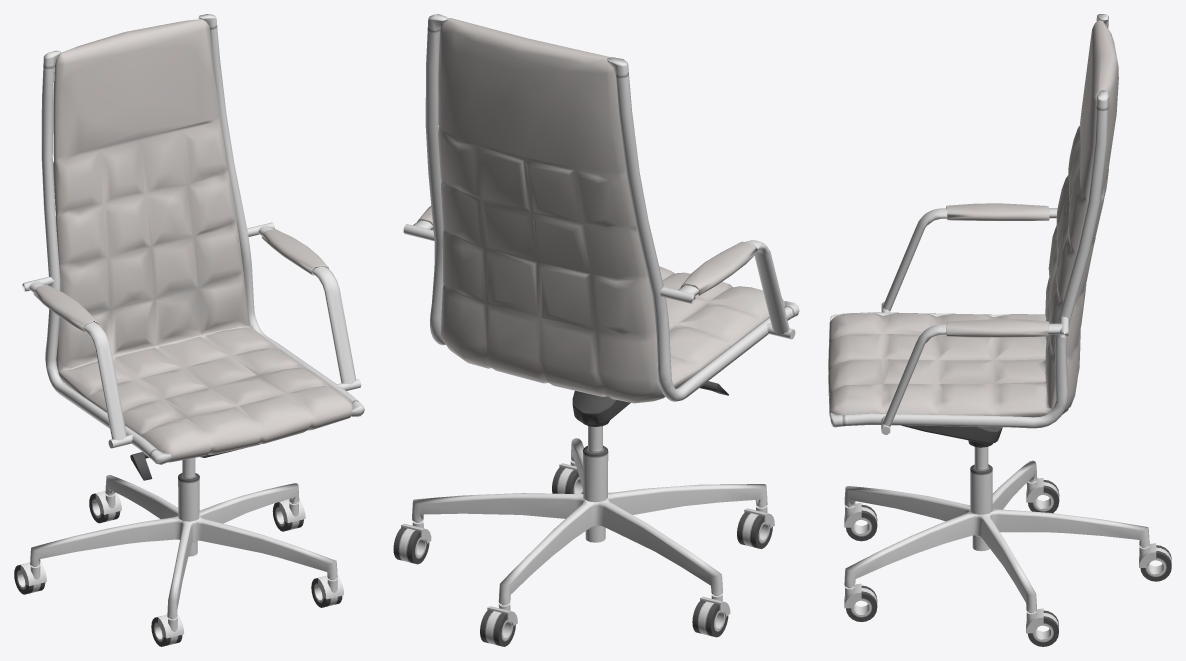
File: CR_Chair1.glb
3 views of the same model, side by side, from view 1: azimuth 30°, elevation 25°; view 2: azimuth 150°, elevation 25°; view 3: azimuth 270°, elevation 25° (orthographic). The views are drawn at different scales.
Parts seen in each view (by area): view 1: Chair_1; view 2: Chair_1; view 3: Chair_1.
Part boxes in pixels (x1=…): Chair_1: x1=14, y1=14, x2=364, y2=646; Chair_1: x1=393, y1=14, x2=799, y2=646; Chair_1: x1=828, y1=14, x2=1171, y2=646.
Bounding box in the file's own units: 0.6914 × 1.21 × 0.7184.
Materials: 1 (1 with a texture image).
